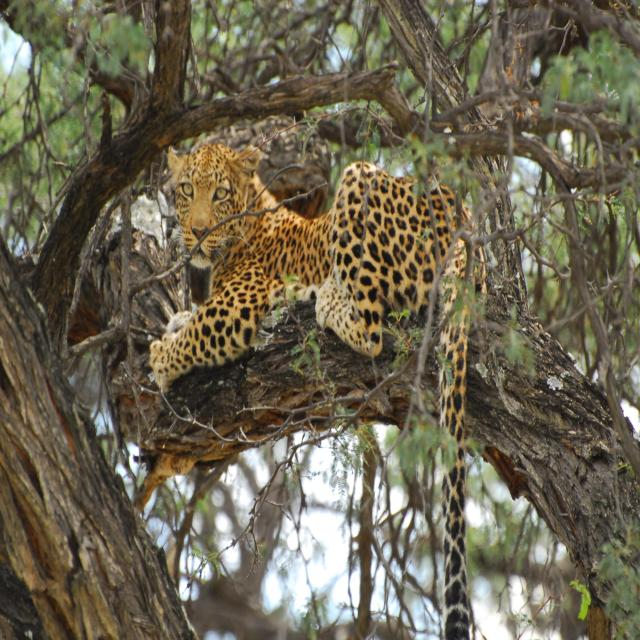Leopard: (131, 159, 479, 620)
